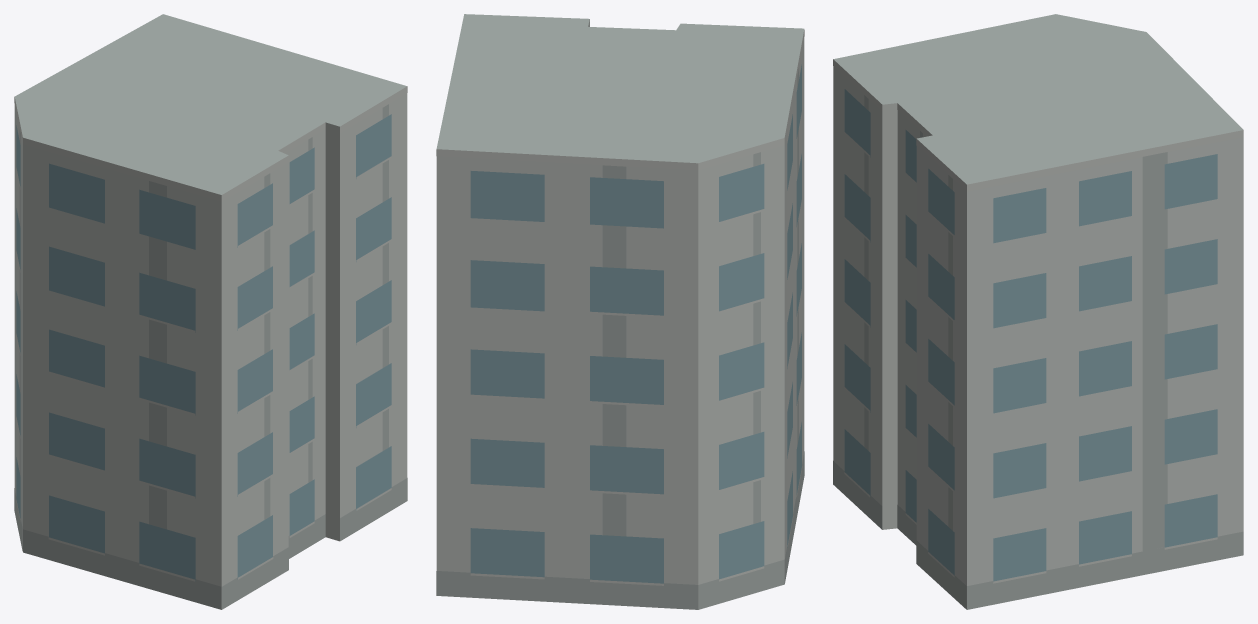
Rendered from survey-upis-32674331.glb.
The picture shows the model from 3 angles, left to right: view 1: azimuth 30°, elevation 25°; view 2: azimuth 150°, elevation 25°; view 3: azimuth 270°, elevation 25°; orthographic projection. The views are drawn at different scales.
Parts seen in each view (by area): view 1: survey-upis-32674331.tmp; view 2: survey-upis-32674331.tmp; view 3: survey-upis-32674331.tmp.
Boxes of the visible parts, left/top/right/bottom form: survey-upis-32674331.tmp: left=14, top=14, right=407, bottom=609; survey-upis-32674331.tmp: left=436, top=14, right=804, bottom=609; survey-upis-32674331.tmp: left=833, top=14, right=1243, bottom=609.
Size of the model in its own units: 12.87 by 14.95 by 13.09.
